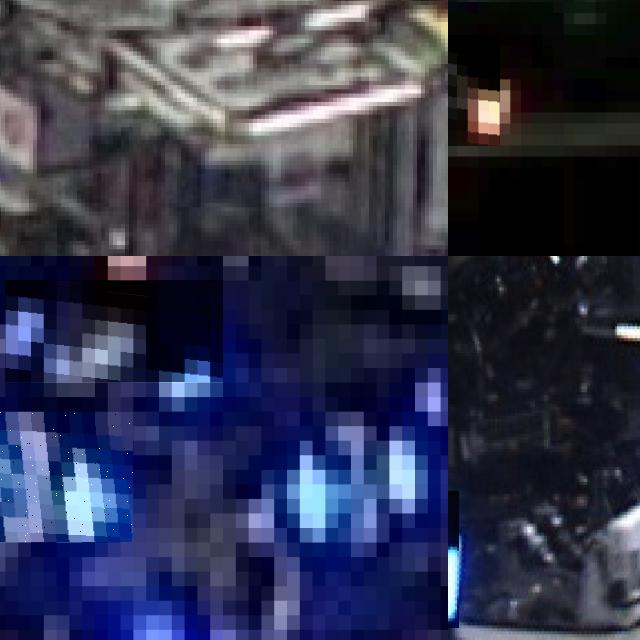B3: (223, 382, 448, 586), (5, 280, 223, 382), (0, 411, 133, 542)
Rs: (448, 35, 499, 145)
